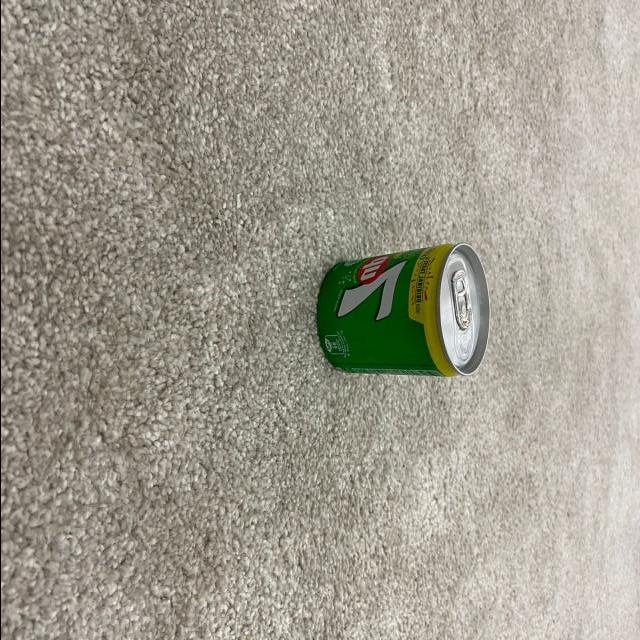can: (317, 227, 493, 384)
